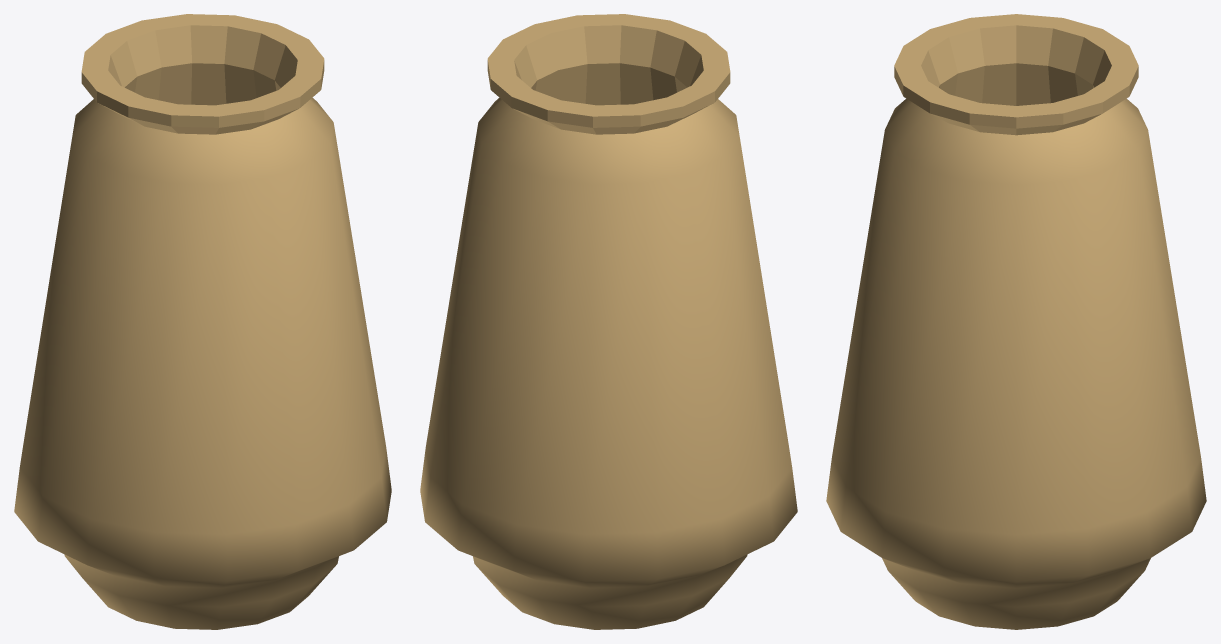
The model's file is SM_pottery_03.fbx.
3 renders of one model, left to right at view 1: azimuth 30°, elevation 25°; view 2: azimuth 150°, elevation 25°; view 3: azimuth 270°, elevation 25°, orthographic.
Parts seen in each view (by area): view 1: pottery_03; view 2: pottery_03; view 3: pottery_03.
Part boxes in pixels (x1,y1,x2,y2): pottery_03: (14, 14, 391, 629); pottery_03: (420, 14, 797, 629); pottery_03: (826, 14, 1206, 629).
Size of the model in its own units: 76.14 by 114 by 76.14.
